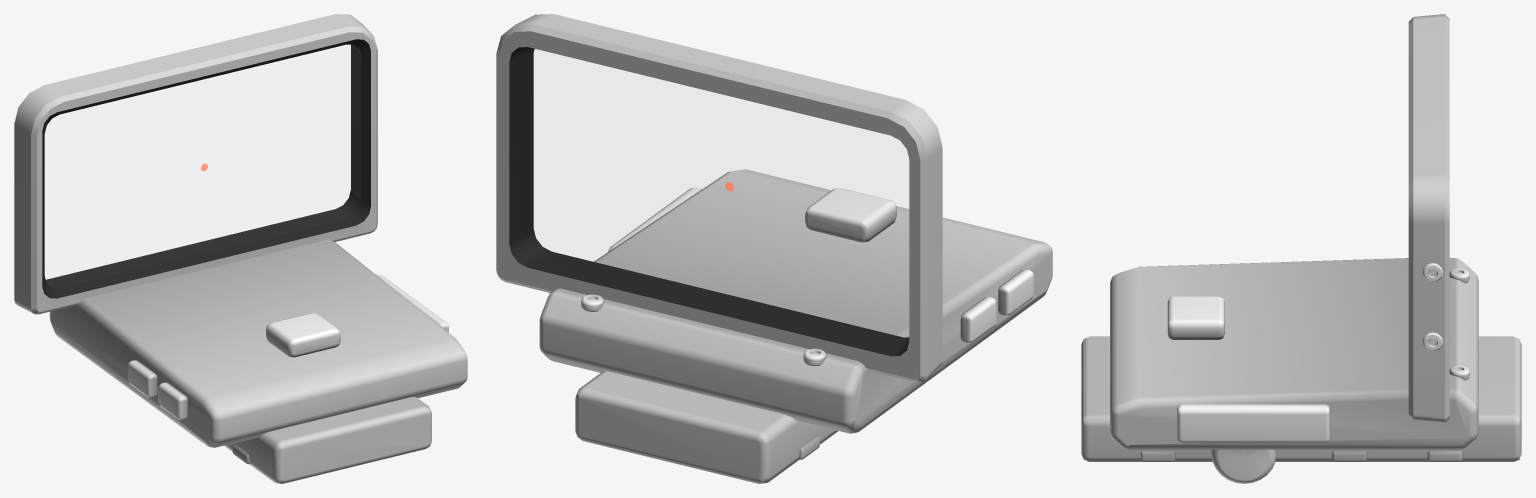
File: reddot_rect.glb
3 renders of one model, left to right at view 1: azimuth 30°, elevation 25°; view 2: azimuth 150°, elevation 25°; view 3: azimuth 270°, elevation 25°, orthographic. The views are drawn at different scales.
Parts seen in each view (by area): view 1: attachment; view 2: attachment; view 3: attachment.
Boxes of the visible parts, <box> form: attachment: <box>14,14,467,483</box>; attachment: <box>496,14,1052,483</box>; attachment: <box>1081,14,1521,483</box>.
Bounding box in the file's own units: 0.0467 × 0.0384 × 0.046.
Materials: 5 (1 with a texture image).
